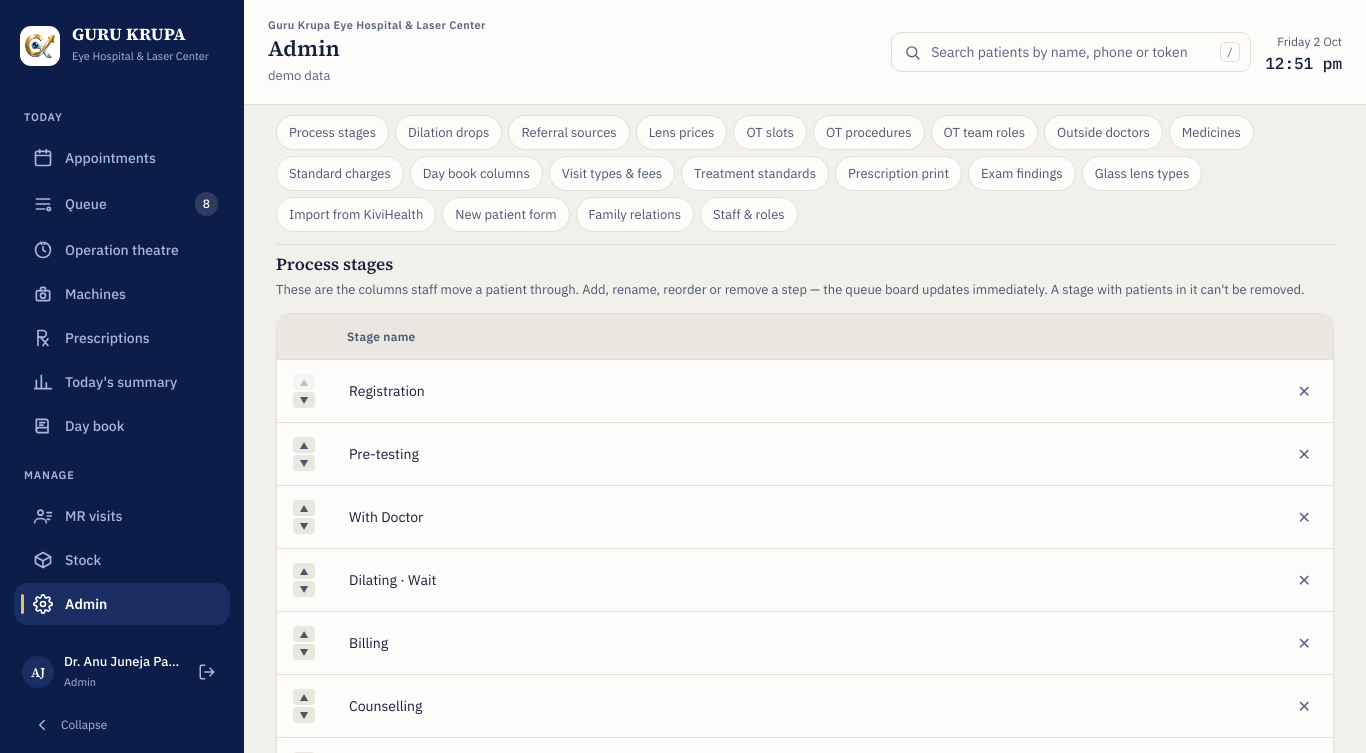
Test: Admin › refuses to delete a stage that still has patients (409) and shows the message
expect the heading "Process stages" is shown: met, box [276,252,393,276]
Step 1. Click the button named "Delete stage Registration" → coordinates (1304, 391), box [1292,378,1317,404]
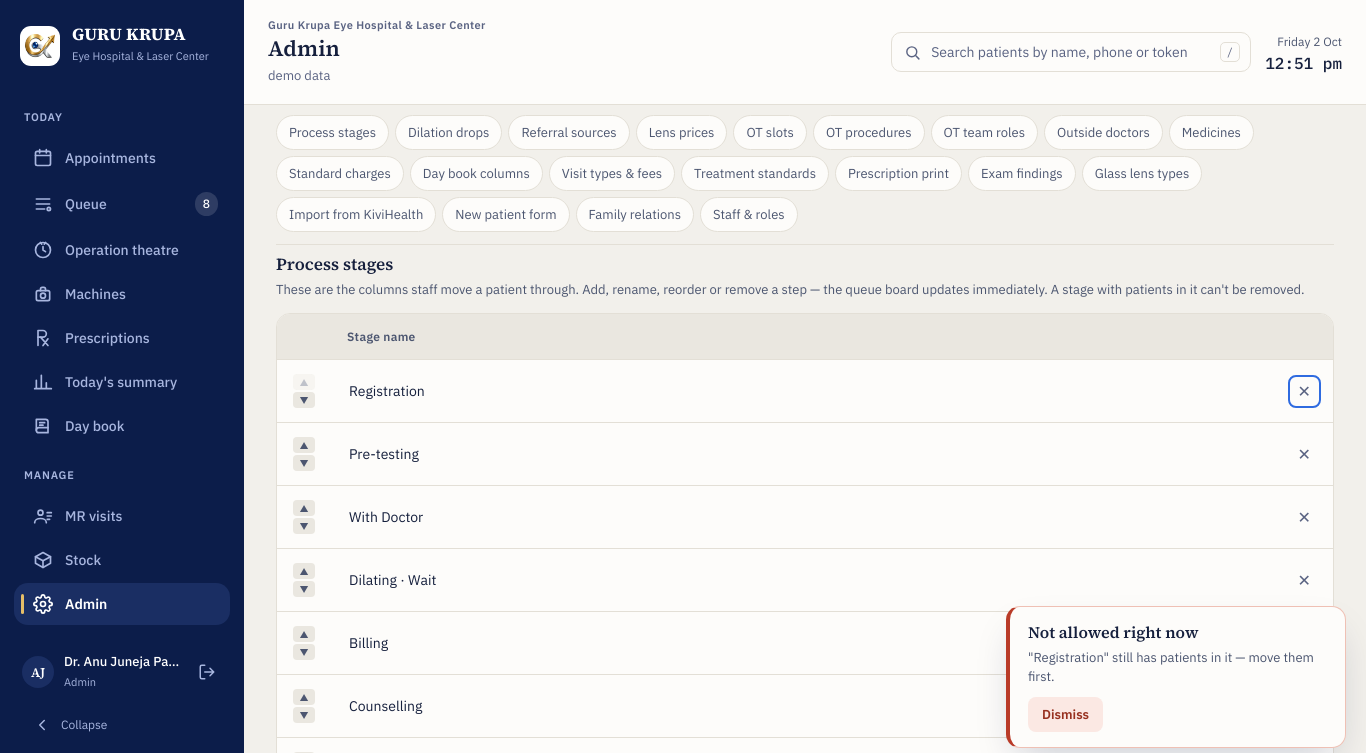
expect the text "Not allowed right now" is shown: met, box [1028,621,1199,643]
expect the text "\"Registration\" still has patients in it — move them first." is shown: met, box [1028,648,1327,686]
